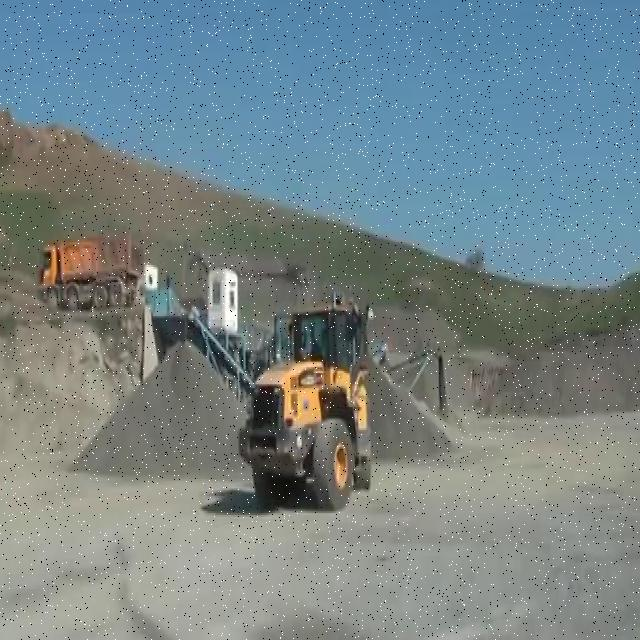Dump Truck: (36, 232, 146, 310)
Loader: (237, 286, 372, 512)
